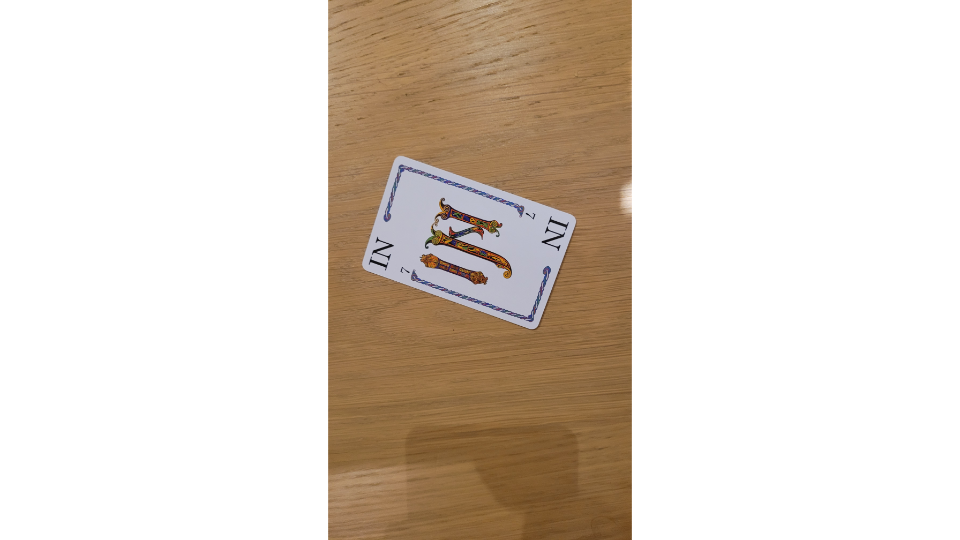IN: (359, 153, 581, 334)
